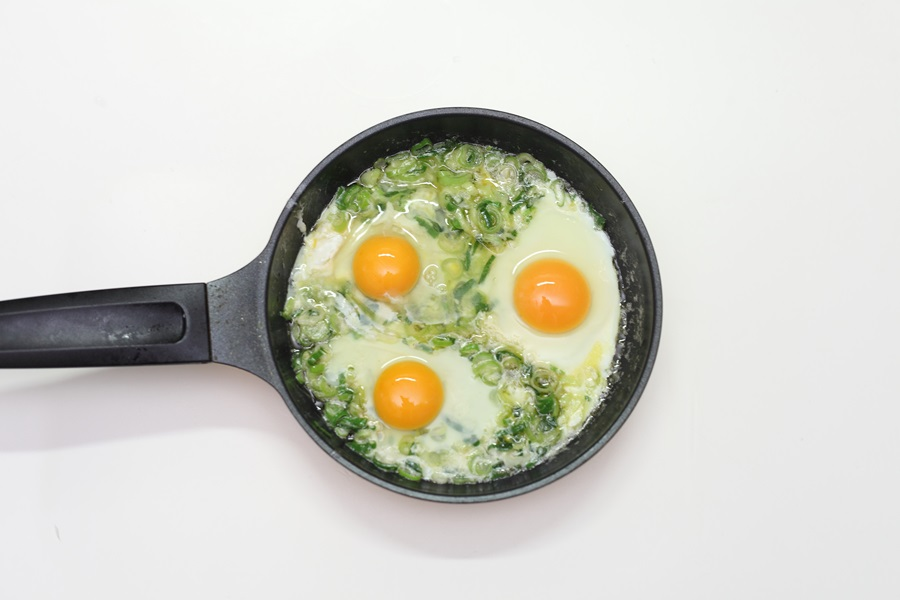gyelanhulai: (294, 148, 620, 483)
